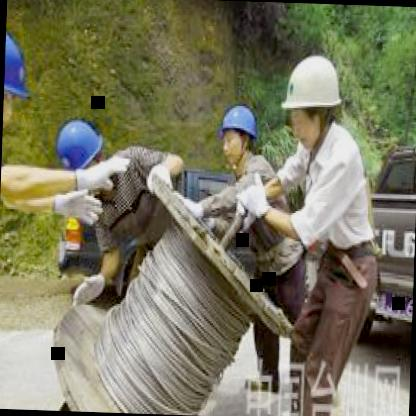helmet: (276, 45, 350, 154), (2, 17, 34, 148), (50, 116, 106, 182), (215, 102, 261, 172)
